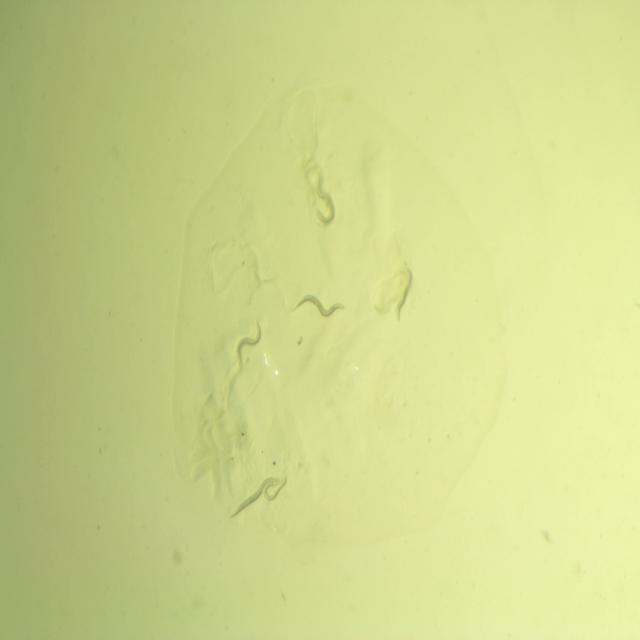worm: (227, 475, 282, 524), (288, 286, 350, 325), (386, 261, 419, 328), (232, 316, 268, 372), (308, 173, 340, 229), (261, 470, 292, 508)
